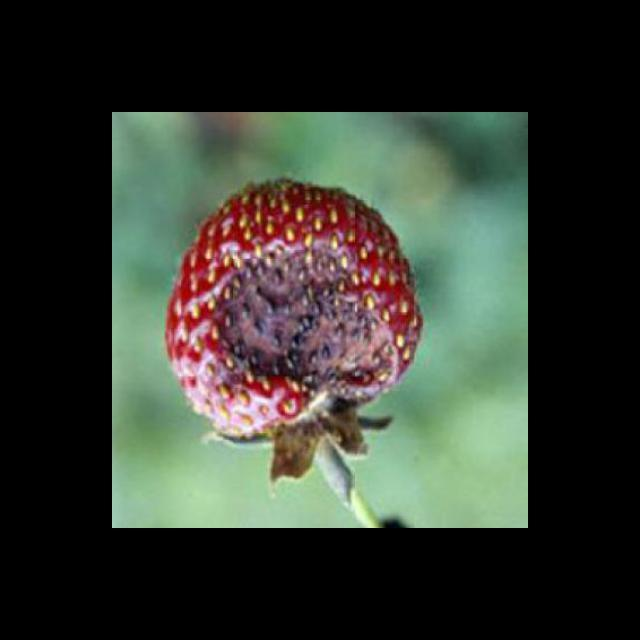Anthracnose Fruit Rot: (204, 240, 403, 417)
